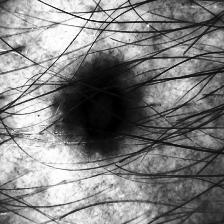Benign Marking or Mole: (64, 60, 143, 157)
